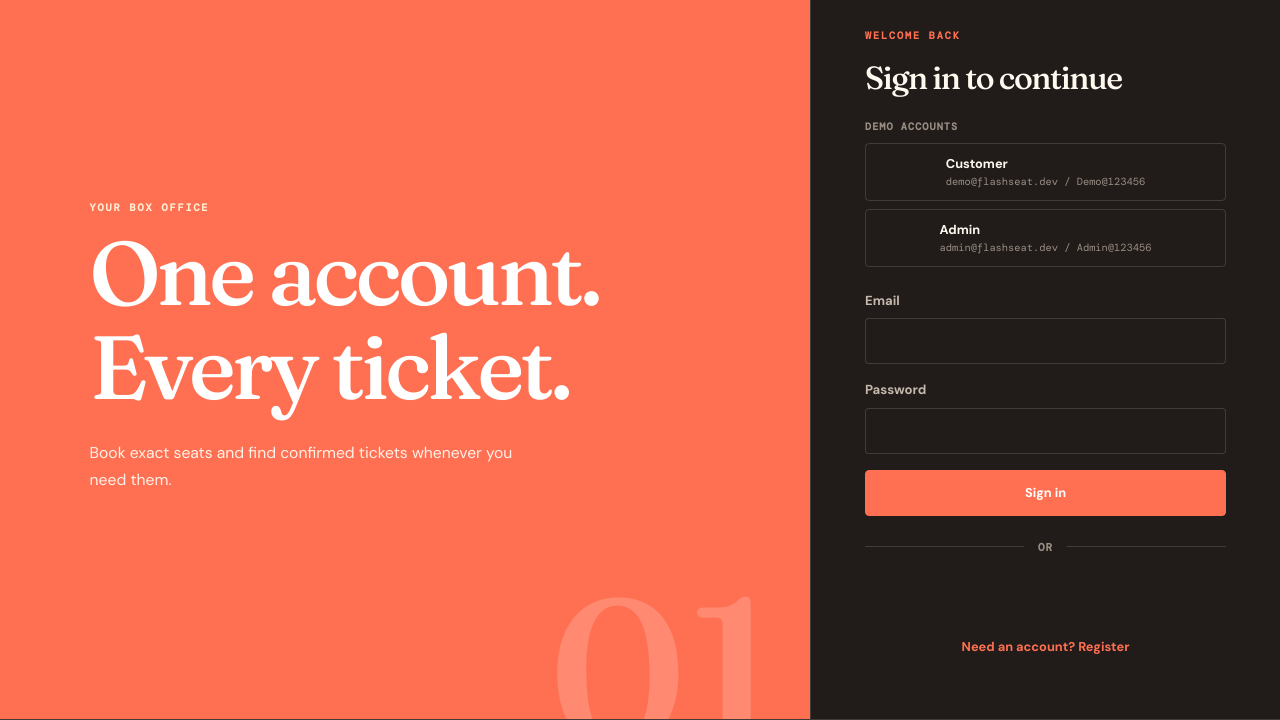
it: AuthPage › requires a full name when registering
This screenshot has width=1280, height=720.
(page scrolled)
Click the button "Need an account? Register": {"x": 1046, "y": 646} x1=865 y1=628 x2=1226 y2=665
(page scrolled)
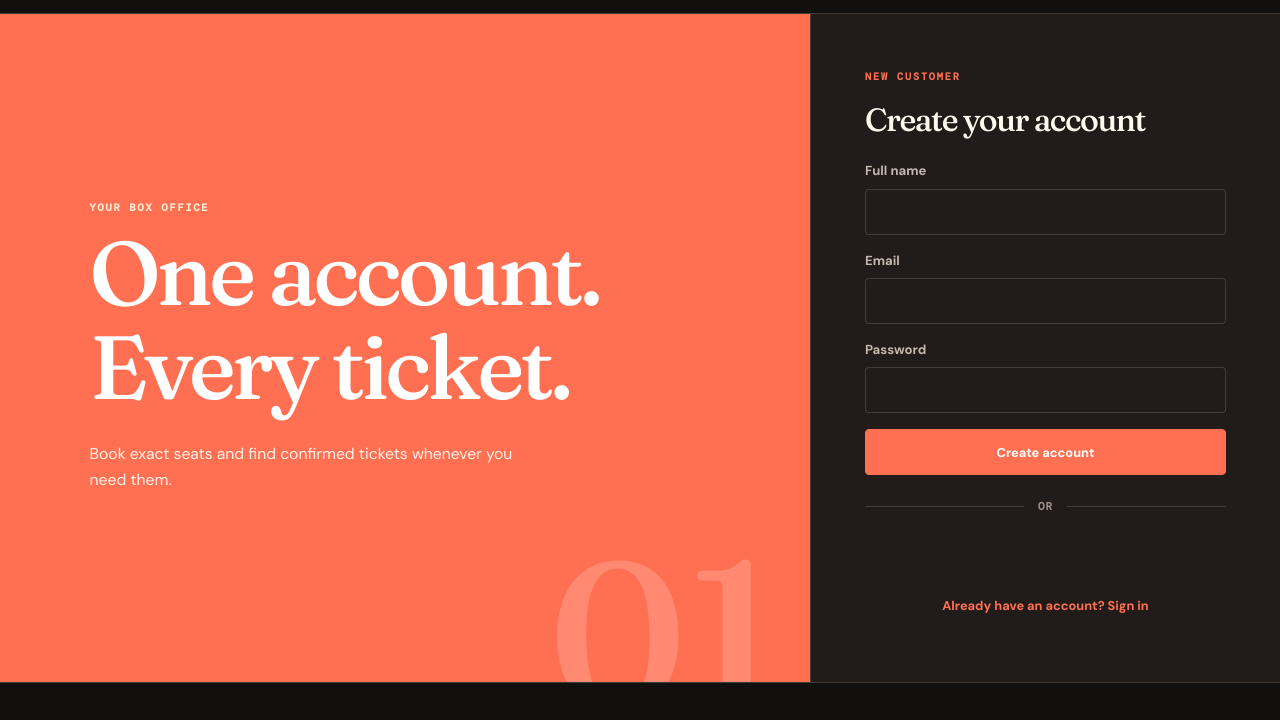
In the field labelled "Email": {"x": 1046, "y": 301} x1=865 y1=278 x2=1226 y2=324, type "person@example.com"
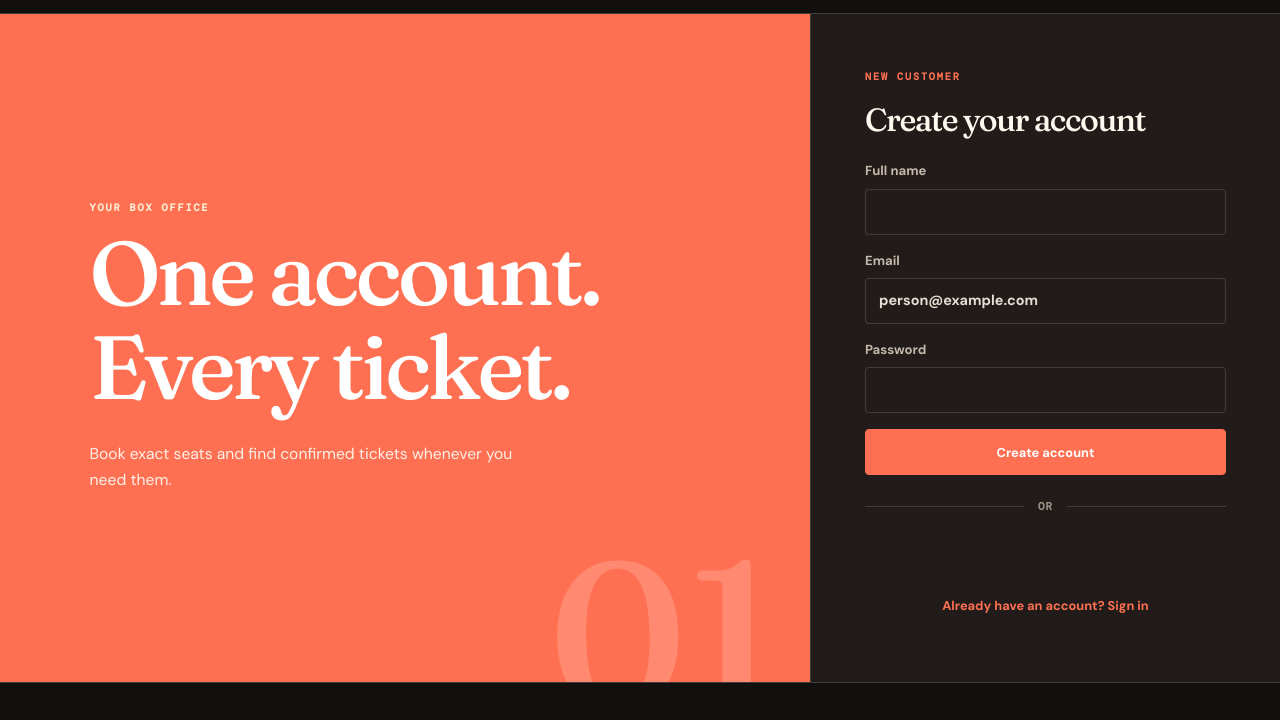
In the password field labelled "Password": {"x": 1046, "y": 390} x1=865 y1=367 x2=1226 y2=413, type "StrongPass1!"
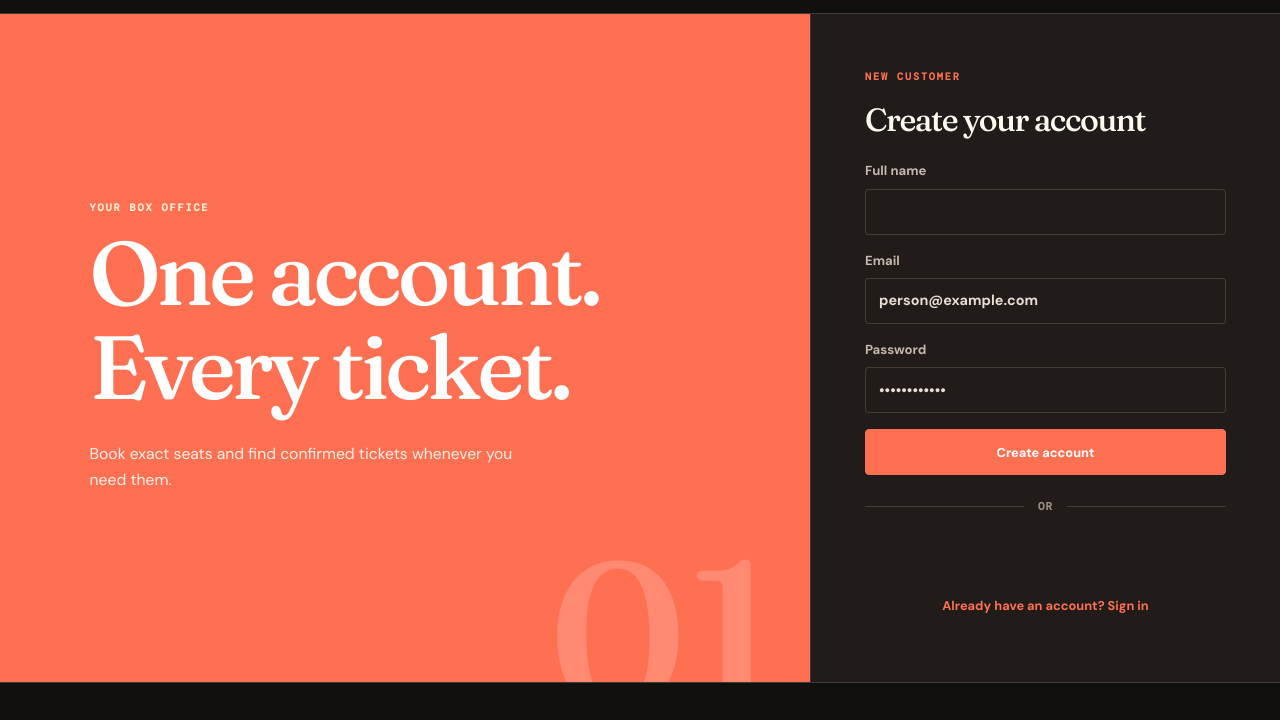
Click the button "Create account": {"x": 1046, "y": 452} x1=865 y1=429 x2=1226 y2=475
(page scrolled)
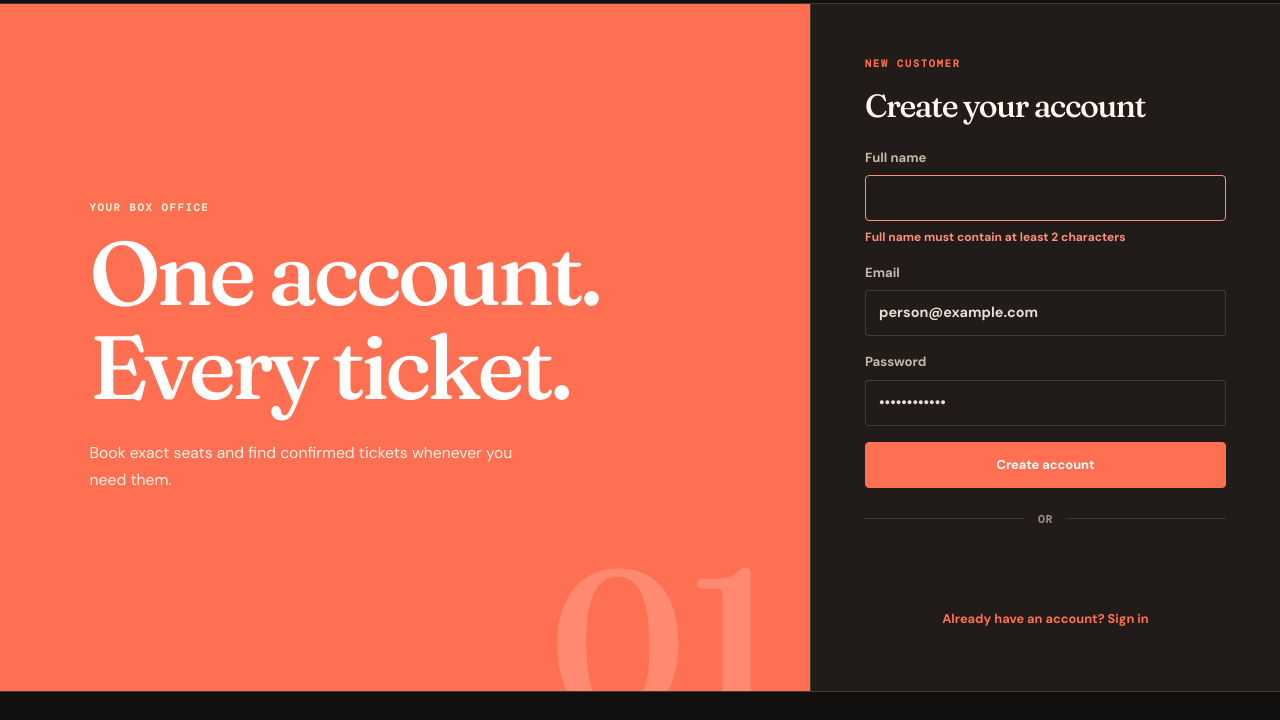
Expected: the text "Full name must contain at least 2 characters" is shown, x1=865 y1=229 x2=1126 y2=245
